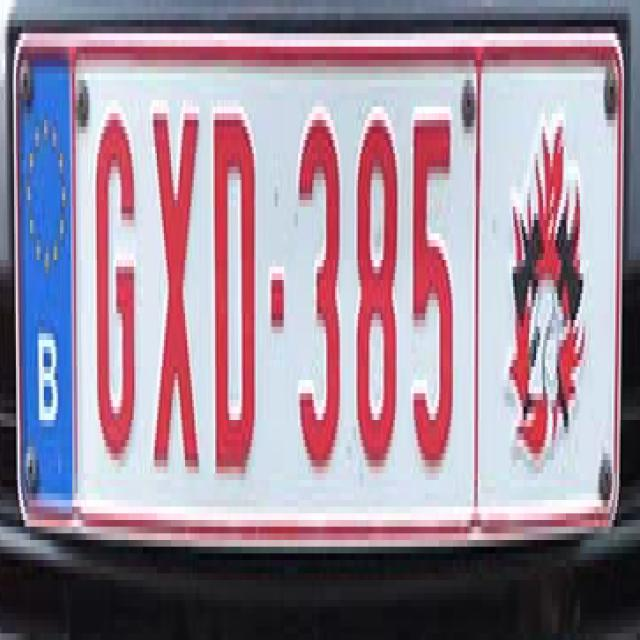Belgique: (17, 45, 78, 512)
EU: (12, 42, 622, 524)
